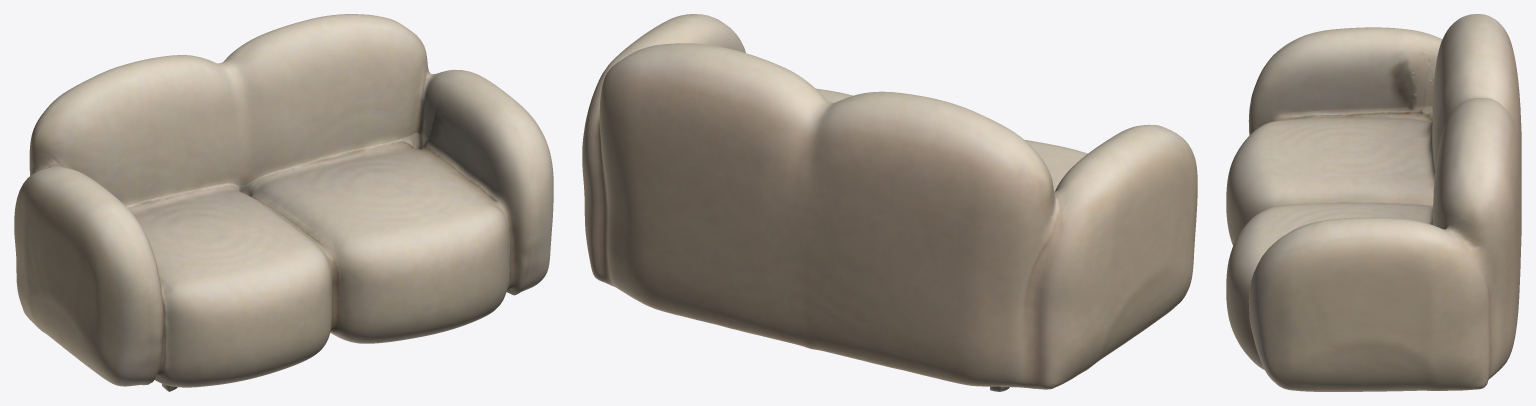
3 views of the same model, side by side, from view 1: azimuth 30°, elevation 25°; view 2: azimuth 150°, elevation 25°; view 3: azimuth 270°, elevation 25° (orthographic). The views are drawn at different scales.
Size of the model in its own units: 2 by 1.02 by 1.15.
Materials: 1 (1 with a texture image).
